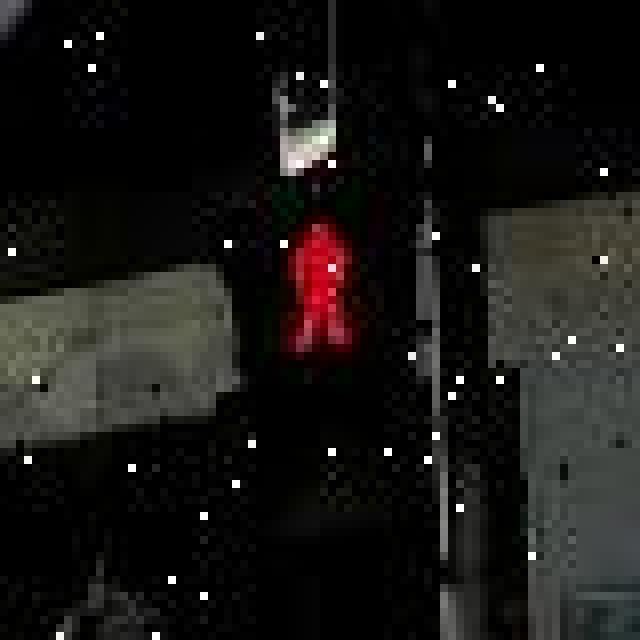redlight: (176, 128, 464, 632)
